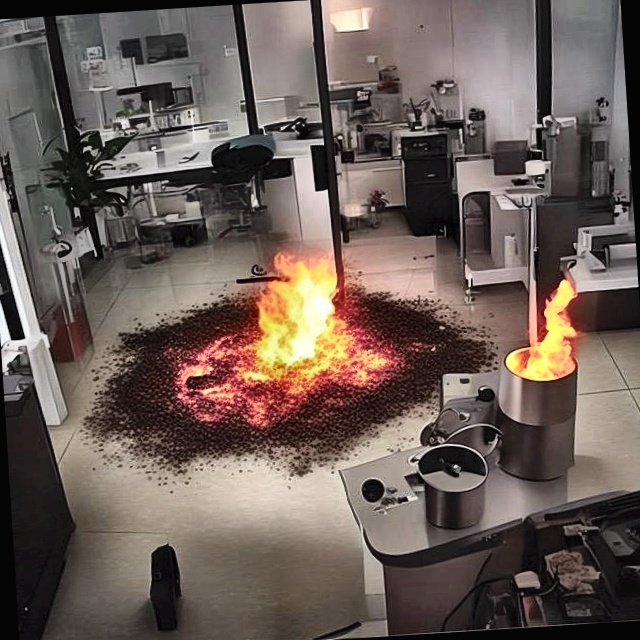fire: (179, 240, 387, 441), (491, 253, 603, 412)
